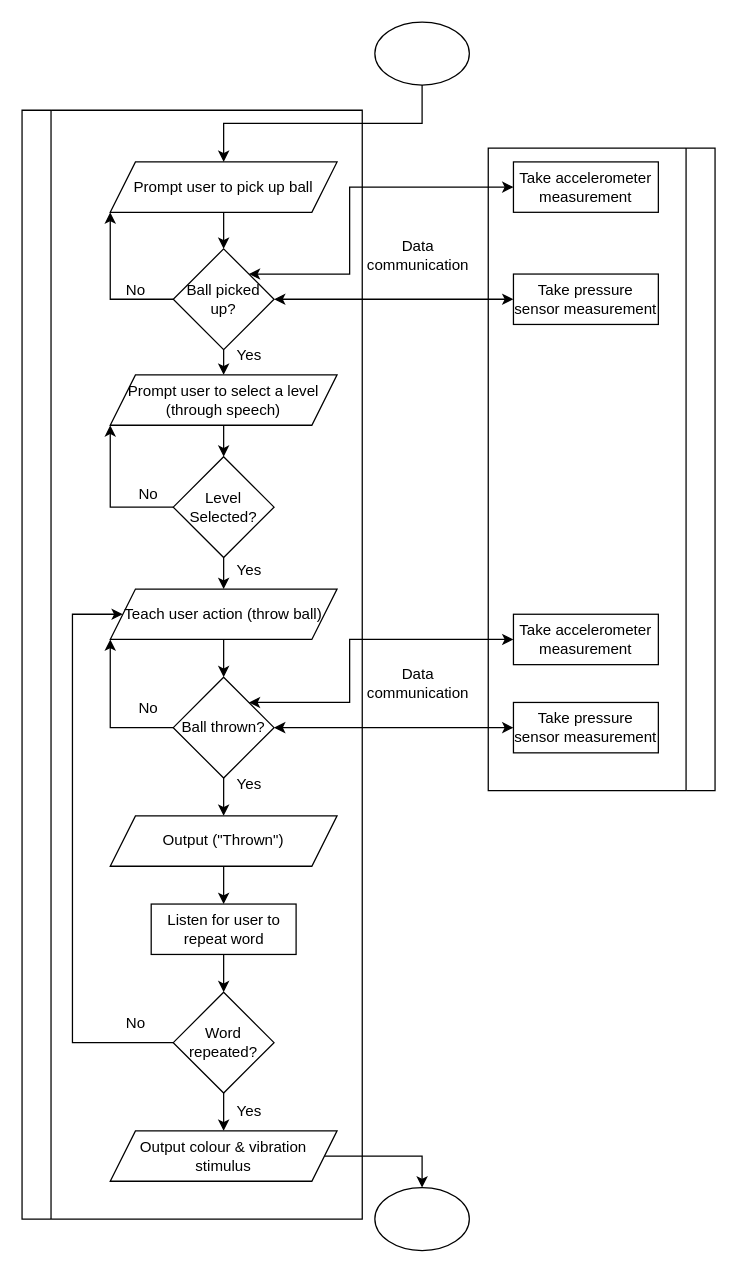
Some shapes in this 737 by 1273 pixel diagram are drawn without their labels. Here are the shapes that lost their labels. From the top down, the centre of each, then its label:
the point at 421,53: Start
the point at 601,469: Smart Ball
the point at 191,664: Armband
the point at 421,1218: End
